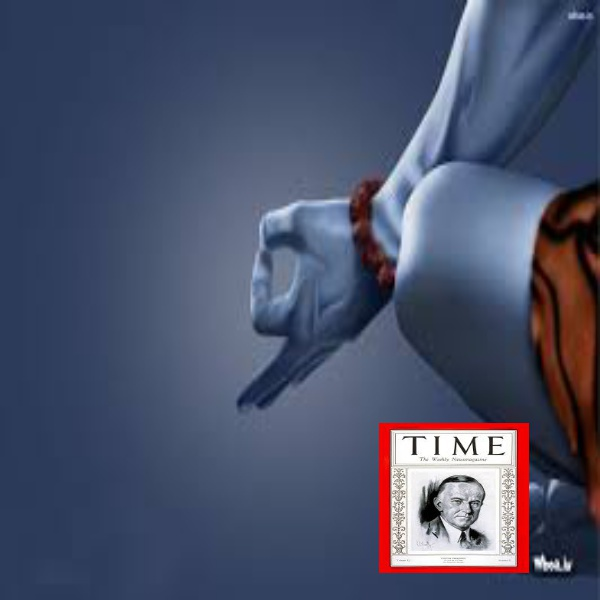time_cover: (372, 412, 533, 581)
